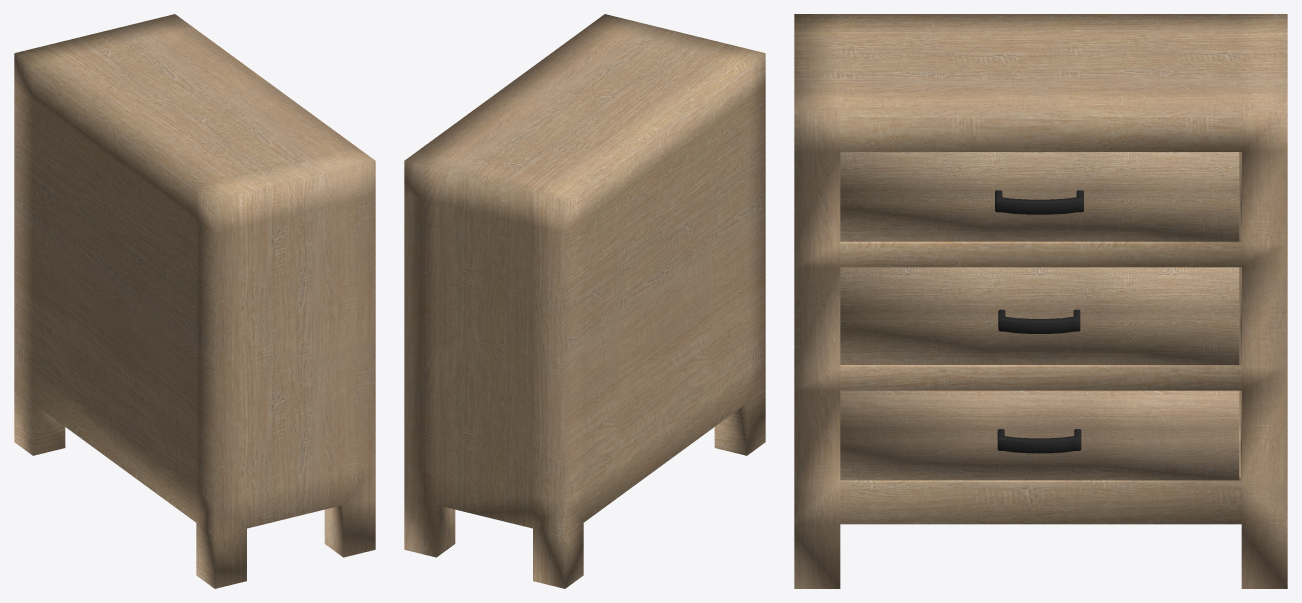
Rendered from sidetable.glb.
3 renders of one model, left to right at view 1: azimuth 30°, elevation 25°; view 2: azimuth 150°, elevation 25°; view 3: azimuth 270°, elevation 25°, orthographic. The views are drawn at different scales.
Visible parts, largest first — view 1: BedsideTable01_01; view 2: BedsideTable01_01; view 3: BedsideTable01_01, BedsideTable01_02_M_BedsideTable01_02_0.
Boxes of the visible parts, box(x1,y1,x2,y2) form: BedsideTable01_01: box(14, 14, 375, 588); BedsideTable01_01: box(404, 14, 765, 588); BedsideTable01_01: box(794, 14, 1287, 588); BedsideTable01_02_M_BedsideTable01_02_0: box(840, 152, 1239, 480).
Bounding box in the file's own units: 0.3713 × 0.7703 × 0.7196.
Materials: 2 (2 with a texture image).
